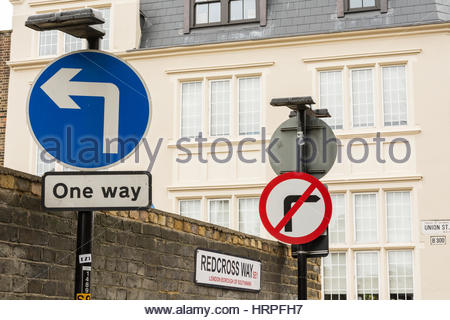No_right_turn: (259, 172, 333, 243)
